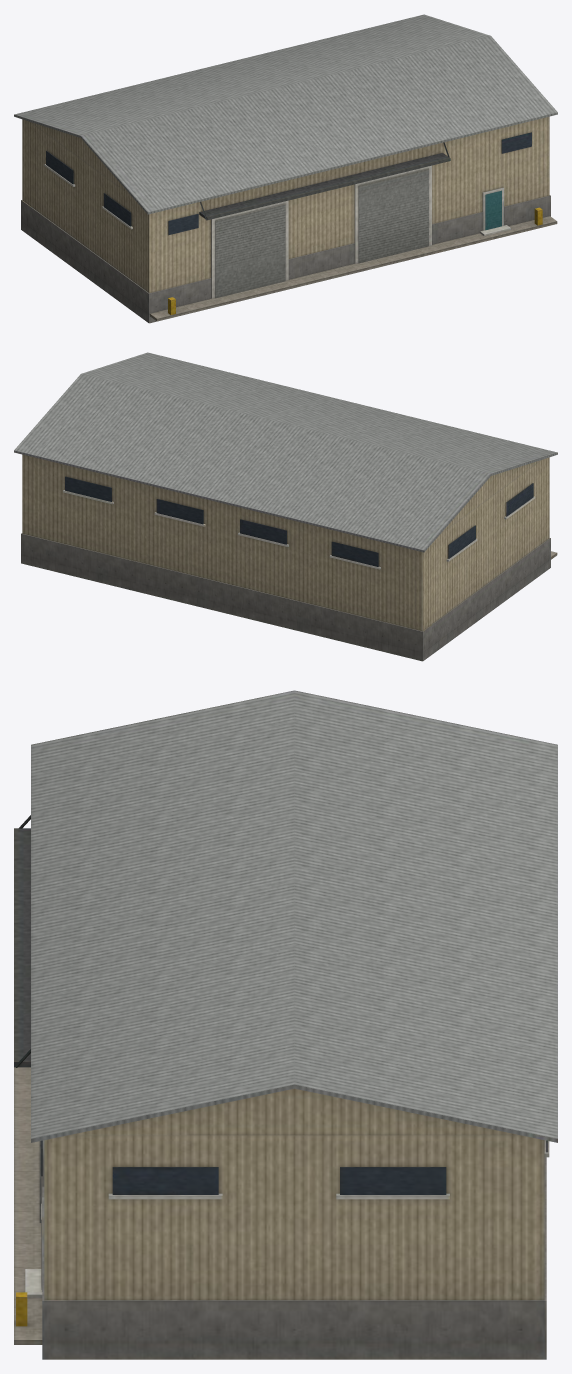
File: civ_warehouse.glb
3 views of the same model, one above another, from view 1: azimuth 30°, elevation 25°; view 2: azimuth 150°, elevation 25°; view 3: azimuth 270°, elevation 25° (orthographic). The views are drawn at different scales.
Parts seen in each view (by area): view 1: civ_warehouse; view 2: civ_warehouse; view 3: civ_warehouse.
Boxes of the visible parts, x1=… form: civ_warehouse: x1=14, y1=14, x2=557, y2=323; civ_warehouse: x1=14, y1=352, x2=557, y2=661; civ_warehouse: x1=14, y1=690, x2=557, y2=1359.
Size of the model in its own units: 24.6 by 8.12 by 14.35.
1 material, 1 textured.
